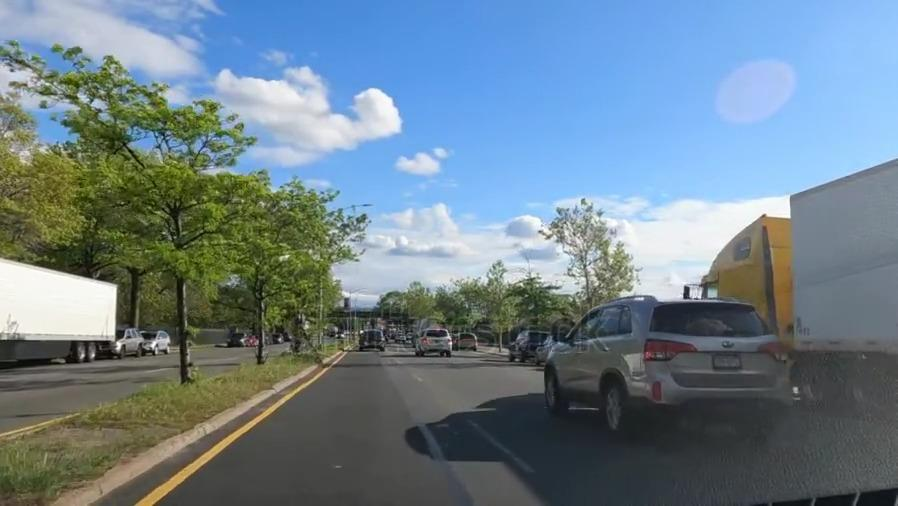car: (533, 303, 785, 426), (414, 331, 454, 357), (141, 327, 167, 353), (505, 331, 531, 357), (120, 328, 145, 355), (356, 329, 385, 351), (537, 333, 552, 362), (458, 333, 478, 351), (229, 331, 246, 347)
truck: (684, 175, 898, 348), (0, 256, 119, 361)
wheel: (602, 380, 627, 430), (541, 367, 558, 414)
